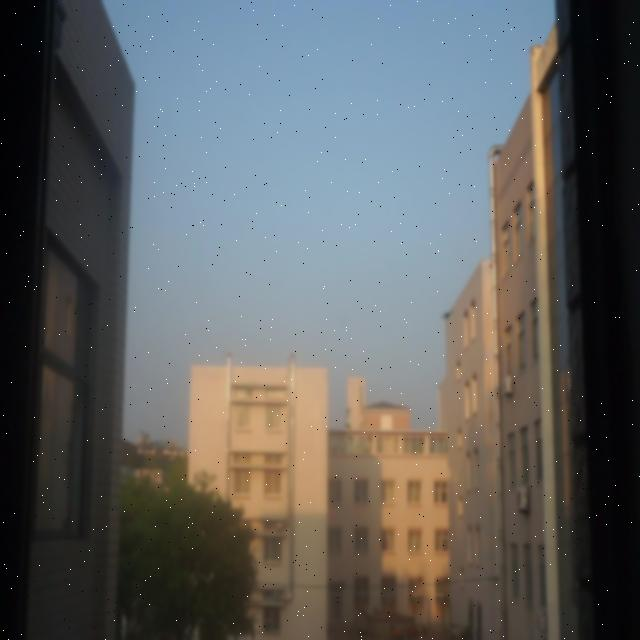UAV: (441, 310, 453, 319)
